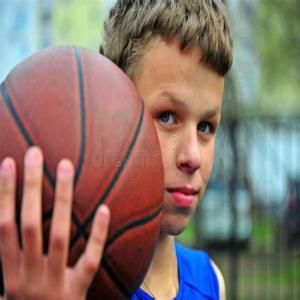Basket: (0, 44, 164, 299)
